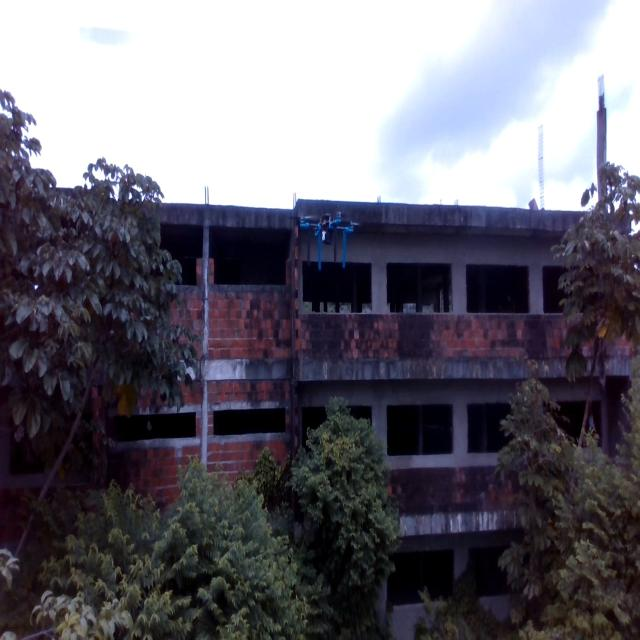-uav-: (299, 194, 358, 268)
